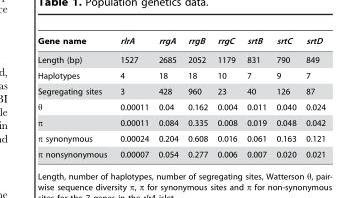table: (37, 36, 325, 158)
table column: (37, 36, 112, 158), (112, 36, 152, 158), (152, 36, 182, 158), (211, 36, 241, 158), (270, 36, 300, 158), (182, 36, 211, 158), (241, 36, 270, 158), (300, 36, 325, 158)
table column header: (37, 36, 325, 50)
table row: (37, 50, 325, 67), (37, 67, 325, 83), (37, 83, 325, 99), (37, 114, 325, 130), (37, 130, 325, 146), (37, 99, 325, 114), (37, 36, 325, 50), (37, 146, 325, 158)
